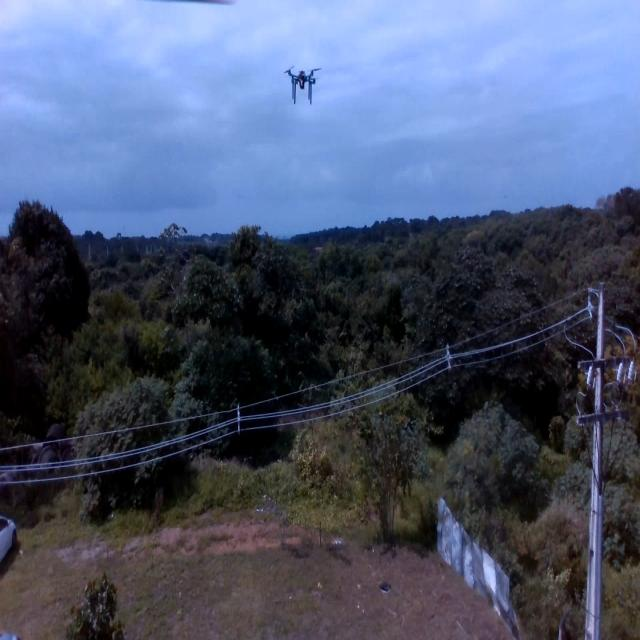-uav-: (282, 59, 325, 108)
